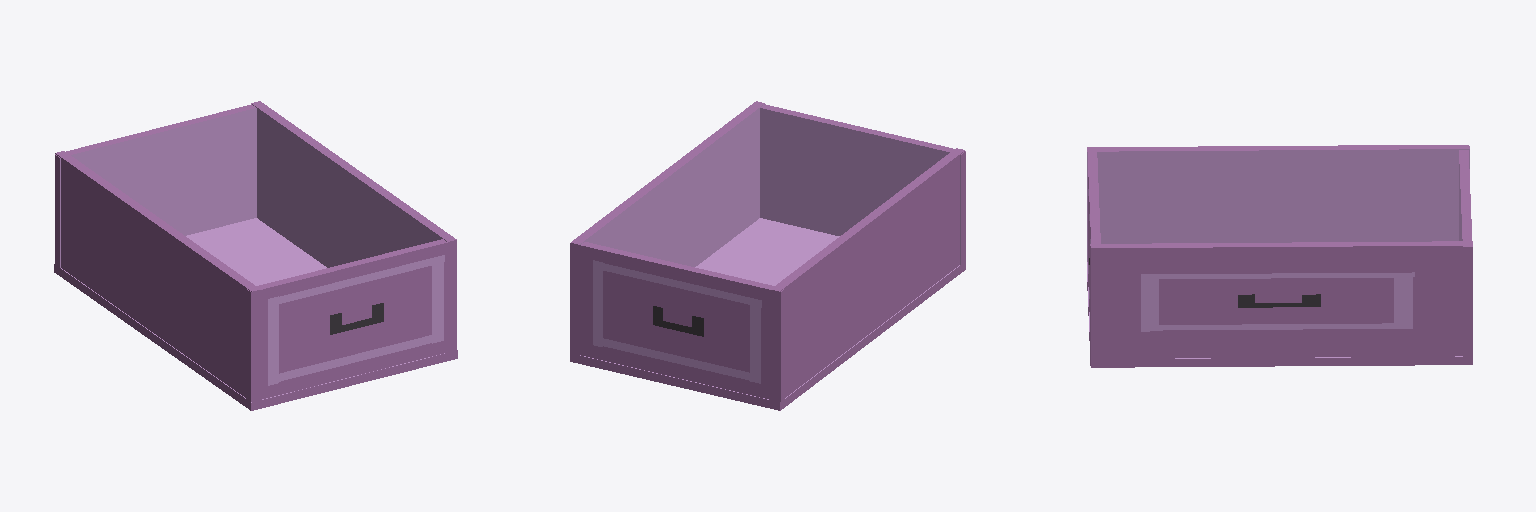
The picture shows the model from 3 angles: view 1: azimuth 30°, elevation 25°; view 2: azimuth 150°, elevation 25°; view 3: azimuth 270°, elevation 25°; orthographic projection.
Visible parts, largest first — view 1: pasted__group1_pasted__group_pasted__pasted__pCube1 group79; view 2: pasted__group1_pasted__group_pasted__pasted__pCube1 group79; view 3: pasted__group1_pasted__group_pasted__pasted__pCube1 group79.
Part boxes in pixels (x1,y1,x2,y2): pasted__group1_pasted__group_pasted__pasted__pCube1 group79: (54,101,457,410); pasted__group1_pasted__group_pasted__pasted__pCube1 group79: (570,101,965,410); pasted__group1_pasted__group_pasted__pasted__pCube1 group79: (1087,145,1472,367).
Size of the model in its own units: 0.4868 by 0.259 by 0.7622.
1 materials, 1 textured.